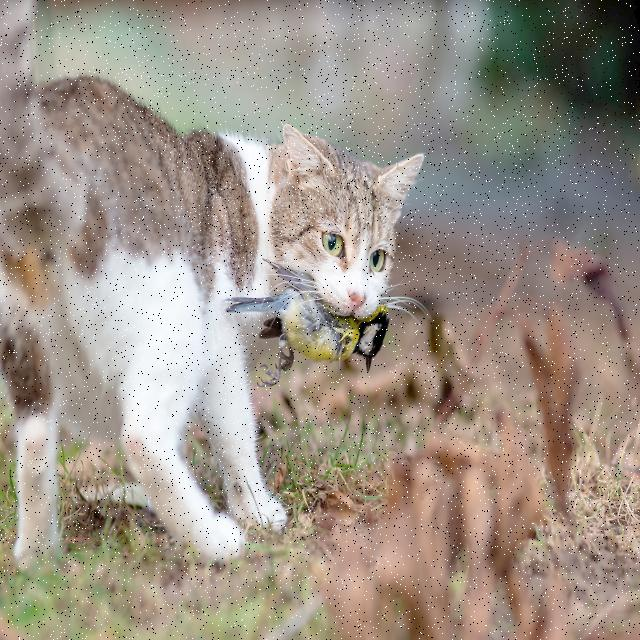cat: (0, 2, 422, 563)
